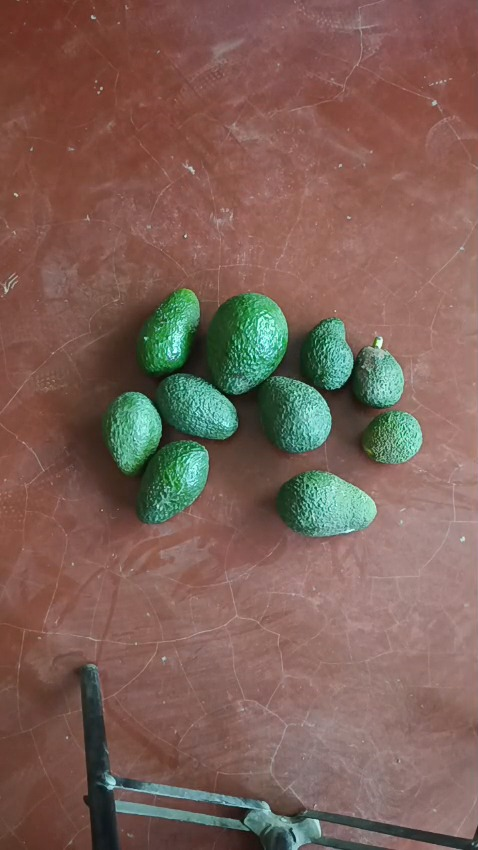Primera: (205, 294, 288, 394)
Segunda: (276, 469, 377, 535), (135, 440, 210, 522), (136, 288, 202, 377), (257, 375, 332, 453), (155, 372, 240, 440), (102, 391, 162, 475)
Tercera: (299, 318, 354, 392), (351, 337, 405, 408), (361, 410, 422, 463)
